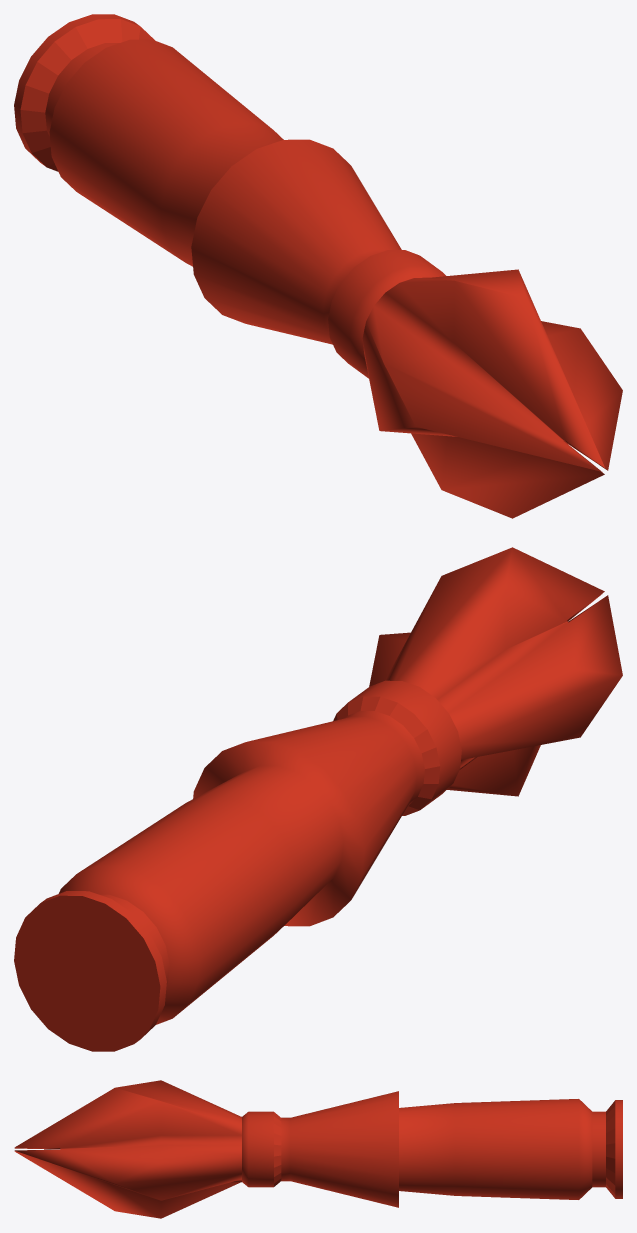
The model's file is projectile_bullet_roberto.fbx.
3 views of the same model, one above another, from view 1: azimuth 30°, elevation 25°; view 2: azimuth 150°, elevation 25°; view 3: azimuth 270°, elevation 25° (orthographic). The views are drawn at different scales.
Parts seen in each view (by area): view 1: bullet_roberto; view 2: bullet_roberto; view 3: bullet_roberto.
Boxes of the visible parts, x1=… form: bullet_roberto: x1=14, y1=14, x2=622, y2=518; bullet_roberto: x1=14, y1=547, x2=622, y2=1051; bullet_roberto: x1=14, y1=1080, x2=622, y2=1218.
Bounding box in the file's own units: 3.4 × 3.4 × 14.74.
